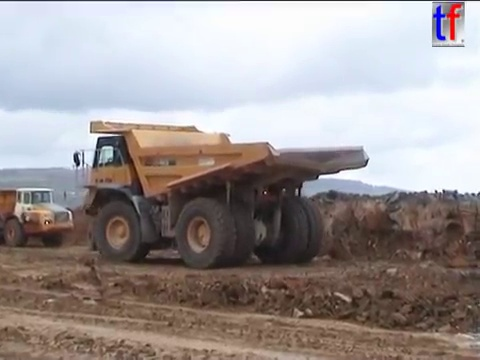truck: (70, 118, 372, 272), (80, 162, 195, 254), (1, 183, 76, 250)
